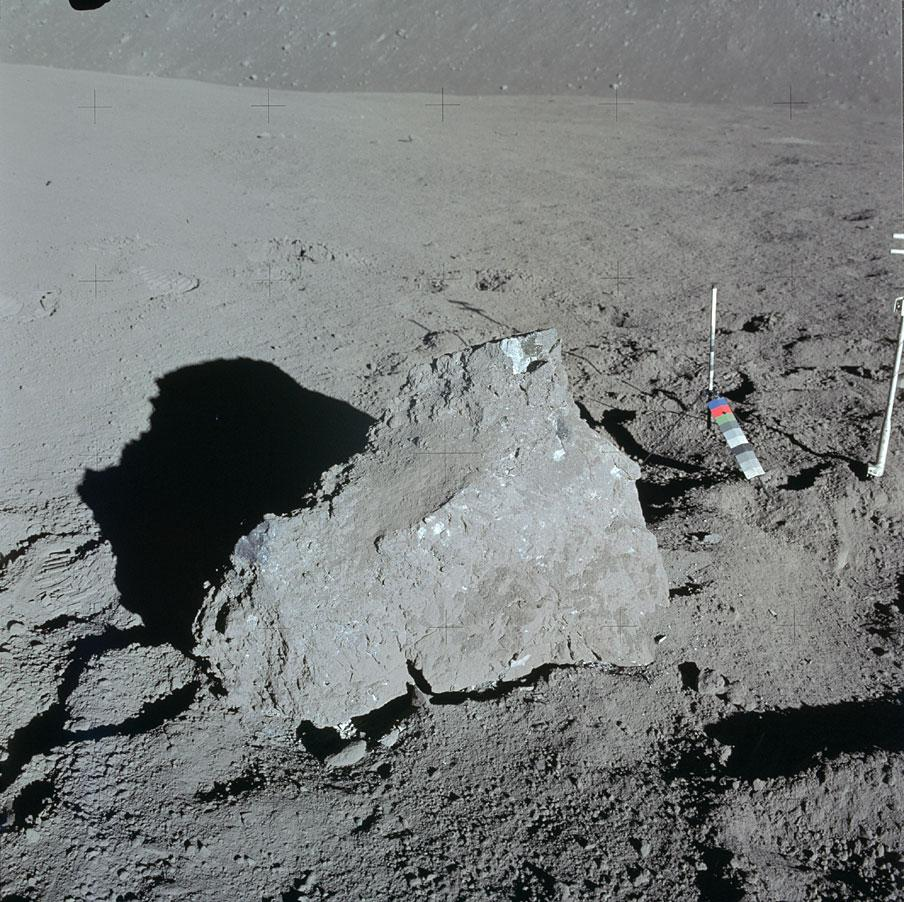rock: (196, 330, 669, 727)
